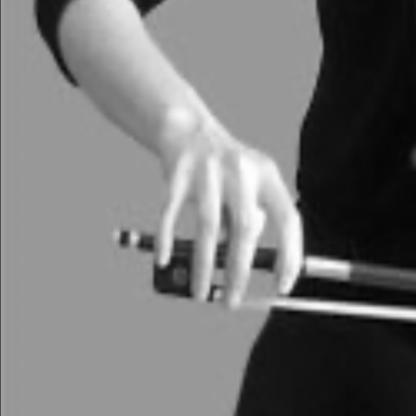good: (135, 113, 307, 317)
